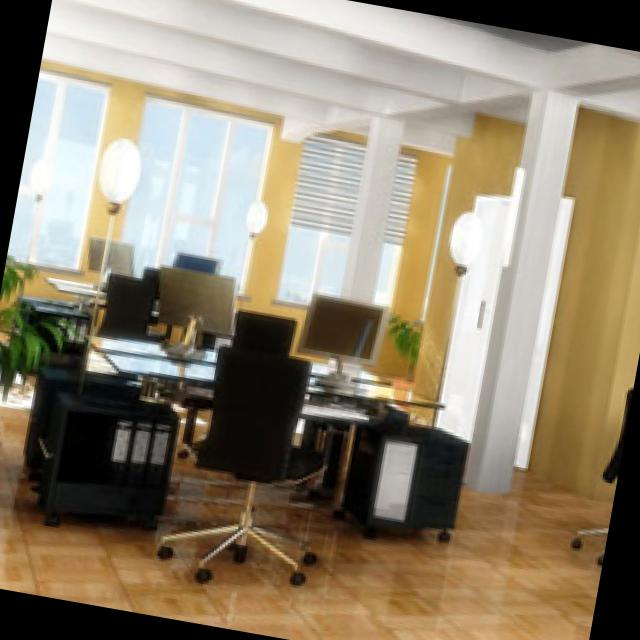2001: (113, 91, 276, 288), (278, 135, 420, 310), (11, 70, 111, 270)
cabinet door: (24, 349, 190, 525), (341, 417, 473, 539), (8, 298, 95, 377)
ceiling beam: (46, 0, 640, 148)
chair: (235, 309, 303, 352)
chair -occluded-: (160, 344, 329, 586), (100, 274, 175, 342)
chair seat: (601, 382, 634, 521), (571, 521, 610, 564)
computer crop: (377, 436, 423, 519)
desk calendar: (89, 335, 450, 404), (49, 275, 107, 305)
door bars: (436, 193, 573, 464)
file organizer: (39, 389, 183, 528)
folders: (106, 417, 172, 480)
keyboard crop: (306, 399, 368, 420)
lamp crop: (437, 210, 493, 408), (91, 137, 145, 341), (32, 156, 59, 200), (249, 195, 270, 240)
monitor crop: (158, 264, 242, 355), (302, 292, 391, 359), (92, 232, 141, 278), (177, 251, 217, 271)
plant -x: (0, 258, 84, 398), (0, 259, 80, 397), (391, 314, 430, 387)
test tube: (162, 262, 236, 335)
